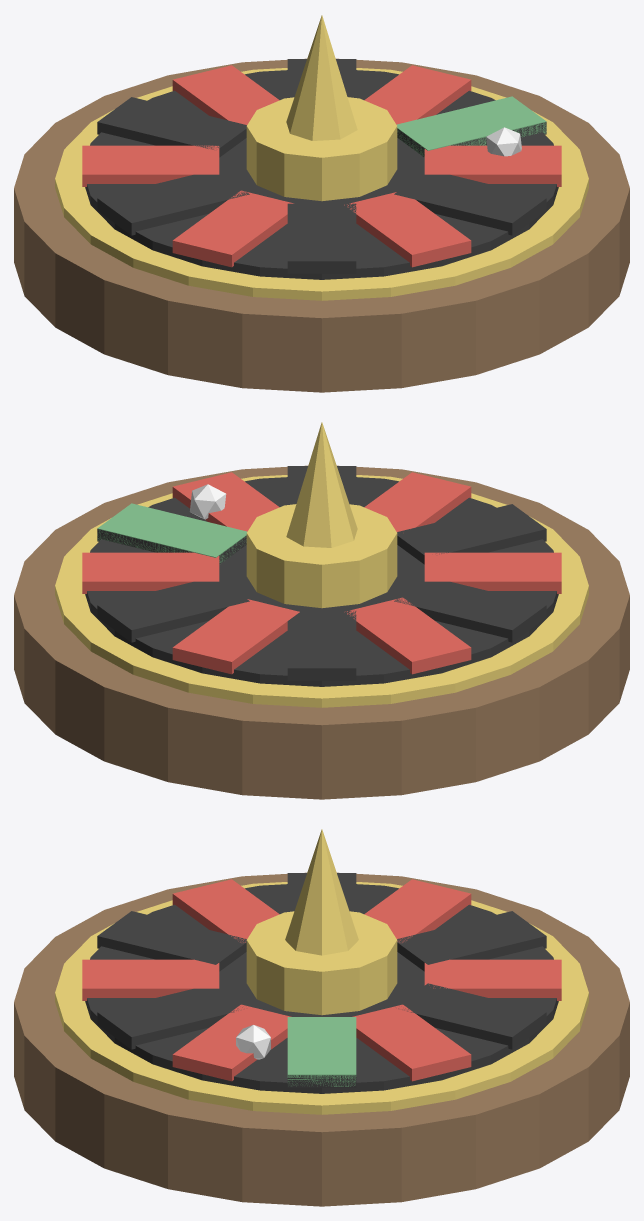
Rendered from RouletteWheel.fbx.
3 views of the same model, one above another, from view 1: azimuth 30°, elevation 25°; view 2: azimuth 150°, elevation 25°; view 3: azimuth 270°, elevation 25° (orthographic).
Visible parts, largest first — view 1: Body; view 2: Body; view 3: Body.
Part boxes in pixels (x1=…): Body: x1=14, y1=15, x2=629, y2=392; Body: x1=14, y1=422, x2=629, y2=799; Body: x1=14, y1=829, x2=629, y2=1206.
Size of the model in its own units: 0.9 by 0.4 by 0.9.
